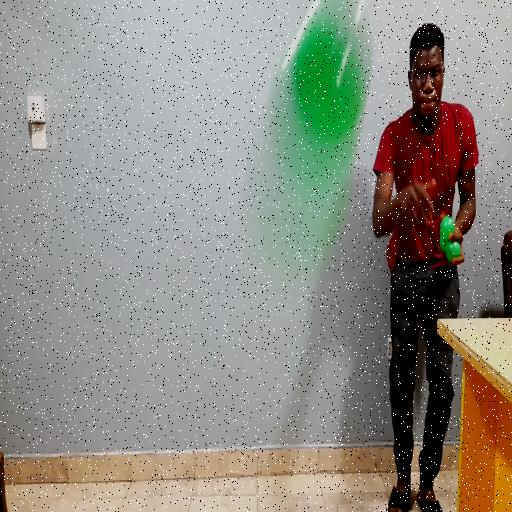plastic-ball: (233, 0, 374, 261)
